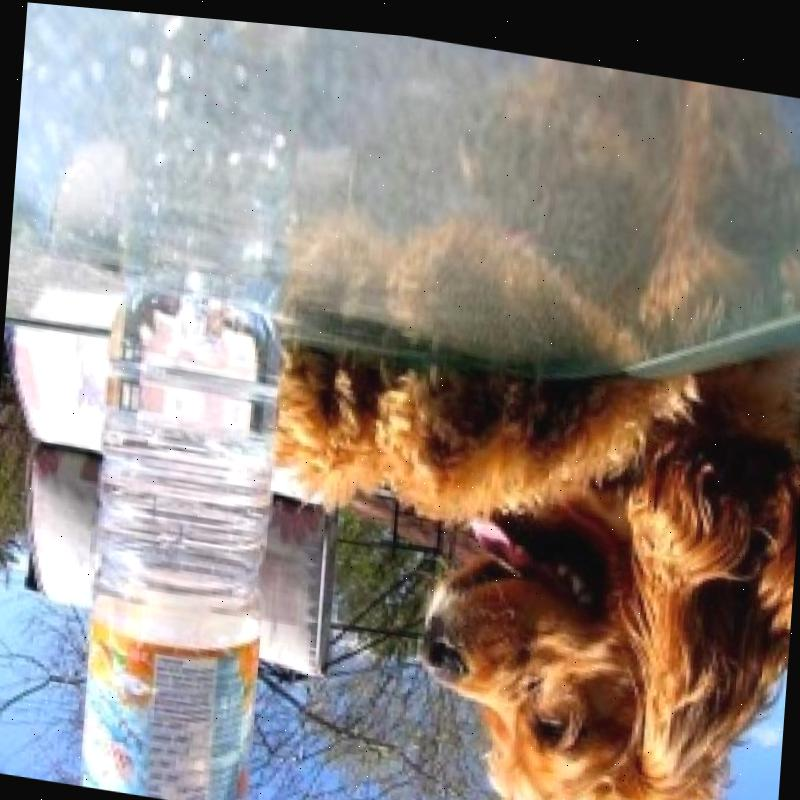botella: (75, 270, 290, 800)
